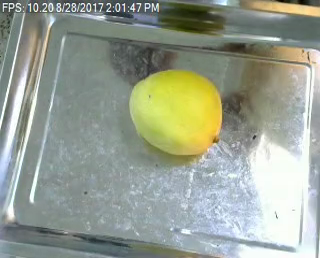Mango: (129, 68, 221, 153)
